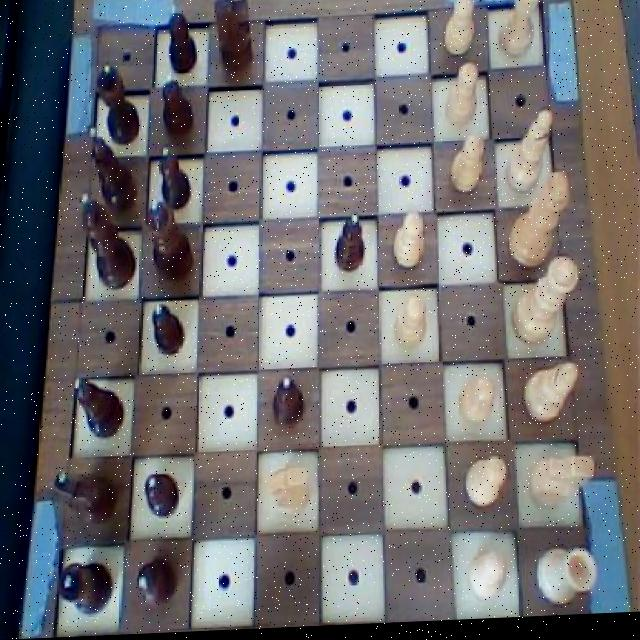bishop: (82, 121, 142, 222), (69, 371, 125, 446)
black-bishop: (76, 187, 139, 298)
black-king: (50, 460, 122, 541), (211, 0, 260, 80)
black-knight: (132, 550, 184, 618), (163, 0, 203, 80), (154, 139, 196, 214), (267, 366, 311, 436), (158, 68, 198, 145), (146, 299, 191, 362), (332, 210, 368, 280), (142, 463, 182, 523)
black-pawn: (141, 196, 197, 291)
black-queen: (48, 554, 120, 626), (94, 56, 146, 147)
black-rook: (505, 106, 560, 205), (517, 358, 583, 435)
white-bishop: (505, 168, 574, 278)
white-king: (525, 454, 600, 521), (262, 457, 317, 524)
white-knight: (439, 63, 483, 137), (457, 371, 501, 440), (462, 452, 509, 516), (466, 550, 512, 614), (445, 135, 489, 200), (391, 293, 431, 359), (440, 0, 480, 65), (389, 211, 426, 278)
white-pawn: (507, 258, 583, 356)
white-queen: (533, 540, 600, 618), (492, 0, 551, 68)
